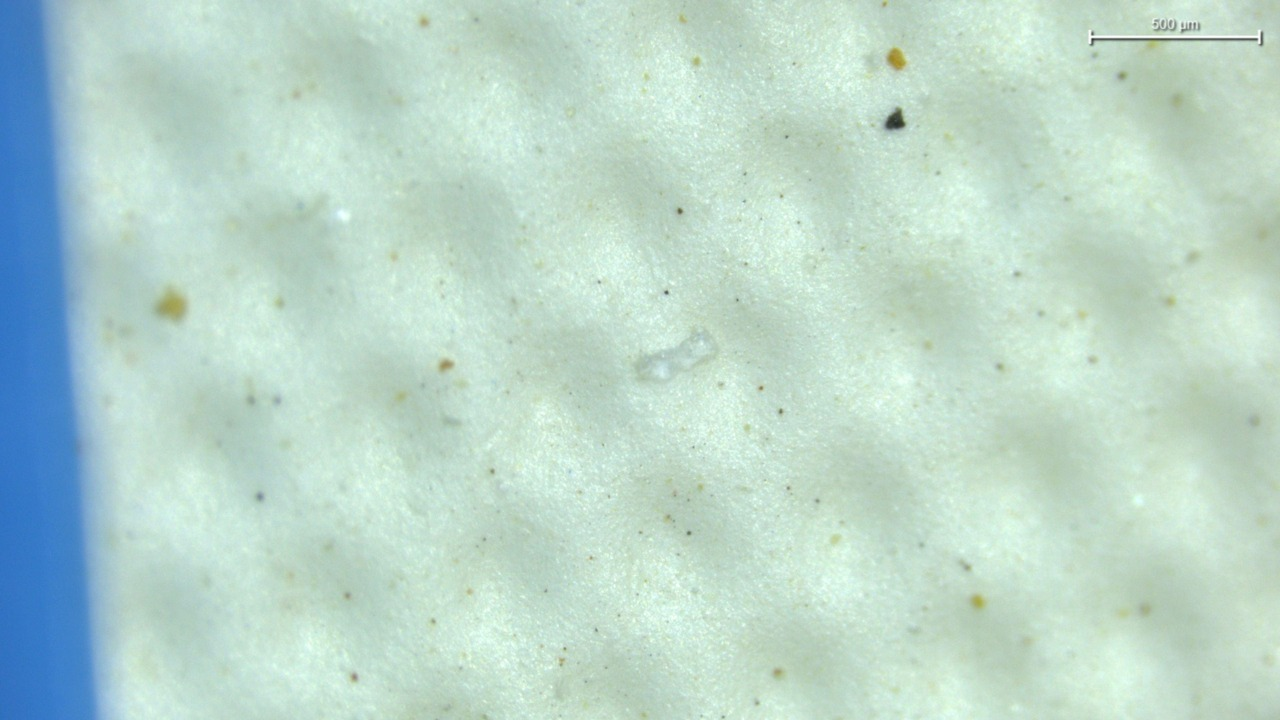microplastic_fragment: (636, 330, 715, 381)
